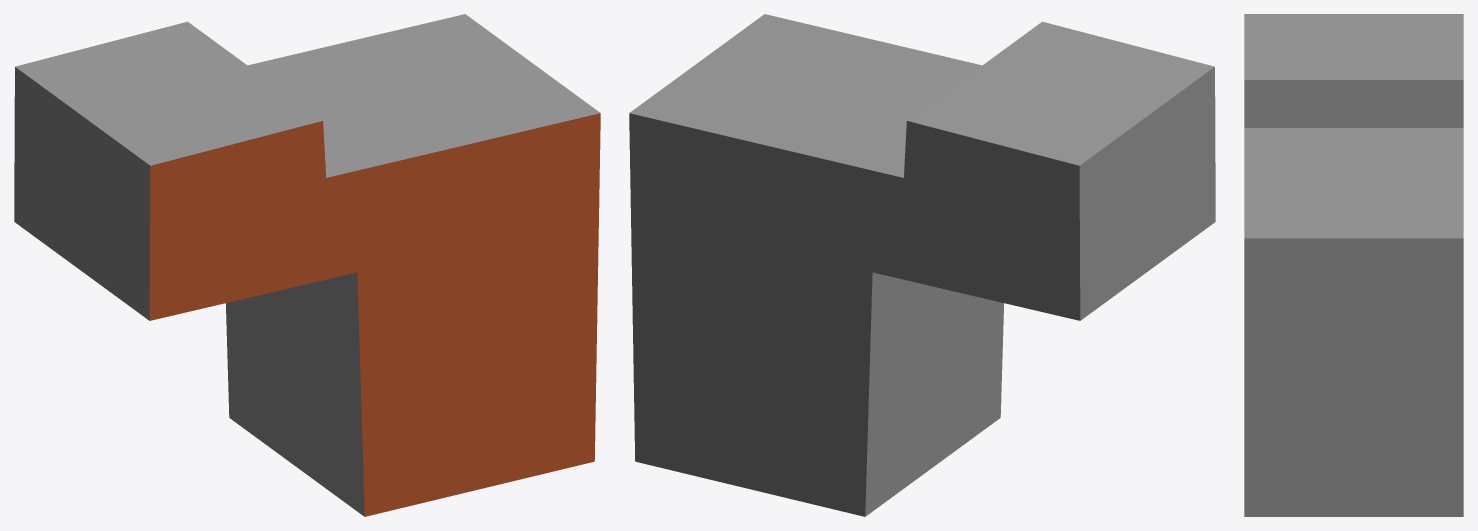
Rendered from construction_3321_assumed_A_Casa_h6m.obj.
The picture shows the model from 3 angles, left to right: view 1: azimuth 30°, elevation 25°; view 2: azimuth 150°, elevation 25°; view 3: azimuth 270°, elevation 25°; orthographic projection. The views are drawn at different scales.
Parts seen in each view (by area): view 1: construction_3321_assumed_A_Casa; view 2: construction_3321_assumed_A_Casa; view 3: construction_3321_assumed_A_Casa.
Boxes of the visible parts, x1,y1,x2,y2 form: construction_3321_assumed_A_Casa: (14,14,600,516); construction_3321_assumed_A_Casa: (629,14,1215,516); construction_3321_assumed_A_Casa: (1244,14,1463,516).
Bounding box in the file's own units: 11.54 × 9.95 × 6.
